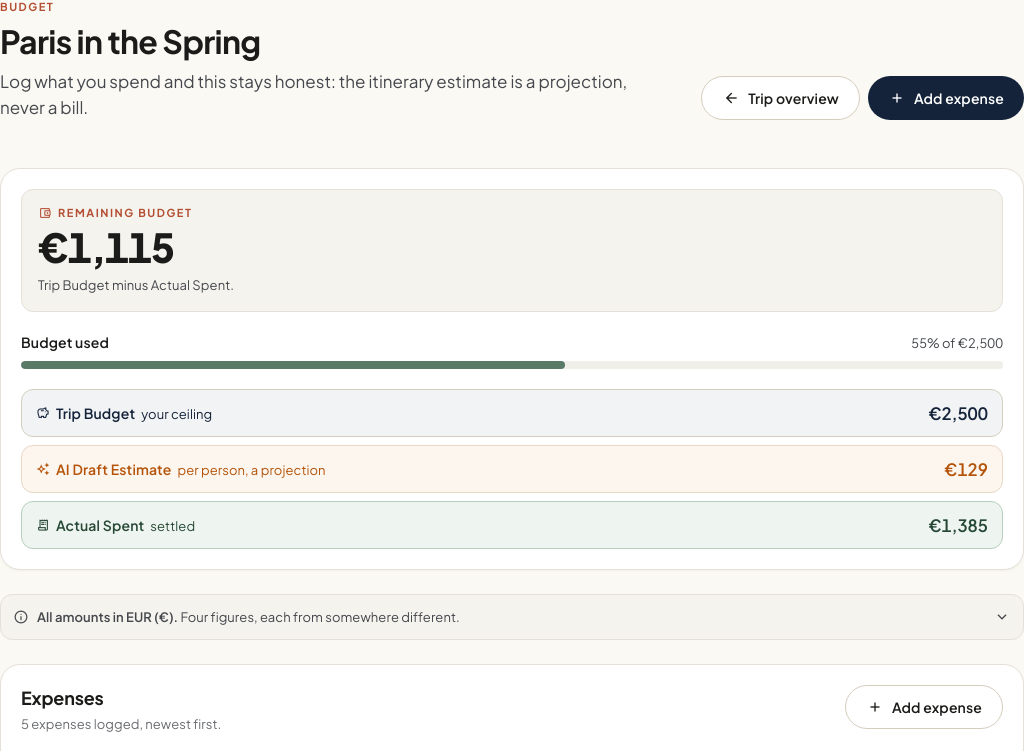
BudgetPage › logging an expense › states the currency once in the form, not twice in the amount field
Click the button "Add expense" next to "Trip overview" at (946, 98), box [868,76,1023,120]
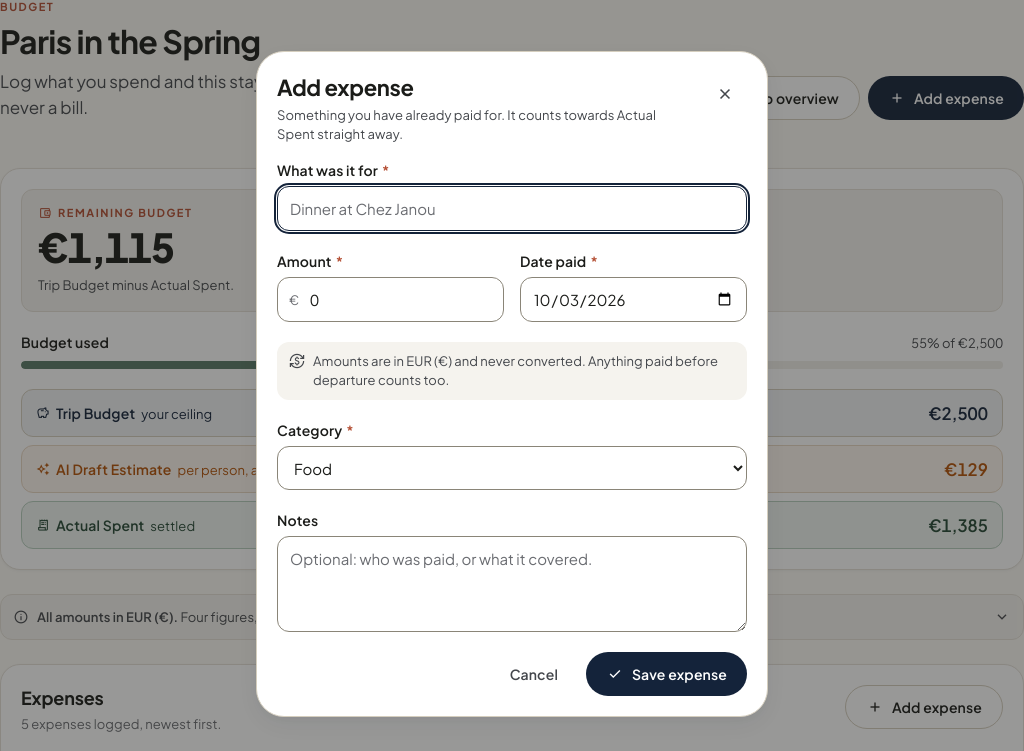
expect the text "Amounts are in EUR (€) and never converted. Anything paid before departure counts too." is shown: met, box [313,353,718,388]
